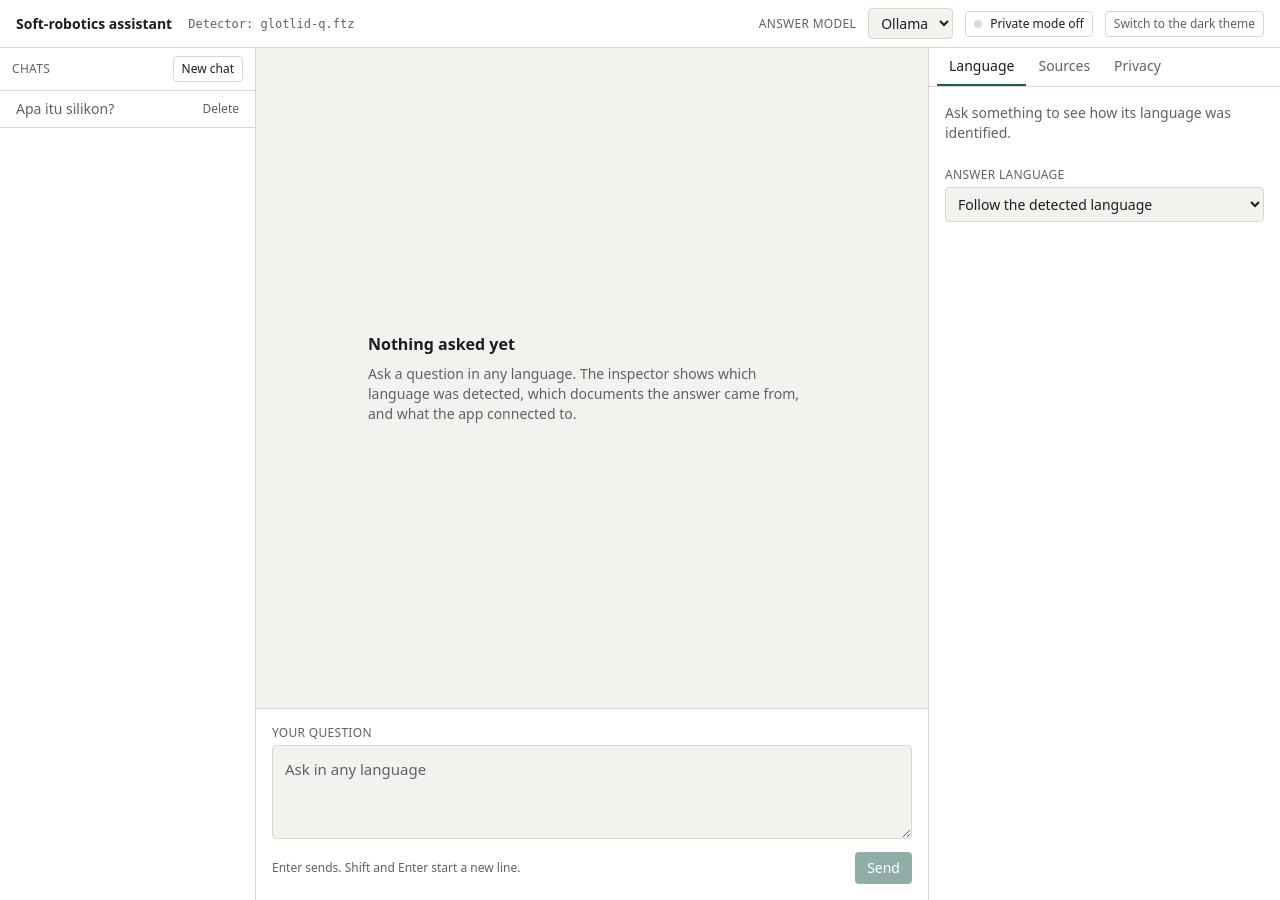
Test: App › explains an error the backend reported
The image size is (1280, 900).
Type "Apa itu silikon?" into the text box labelled "Your question".
click(592, 792); type("Apa itu silikon?")  # box [272, 745, 912, 838]
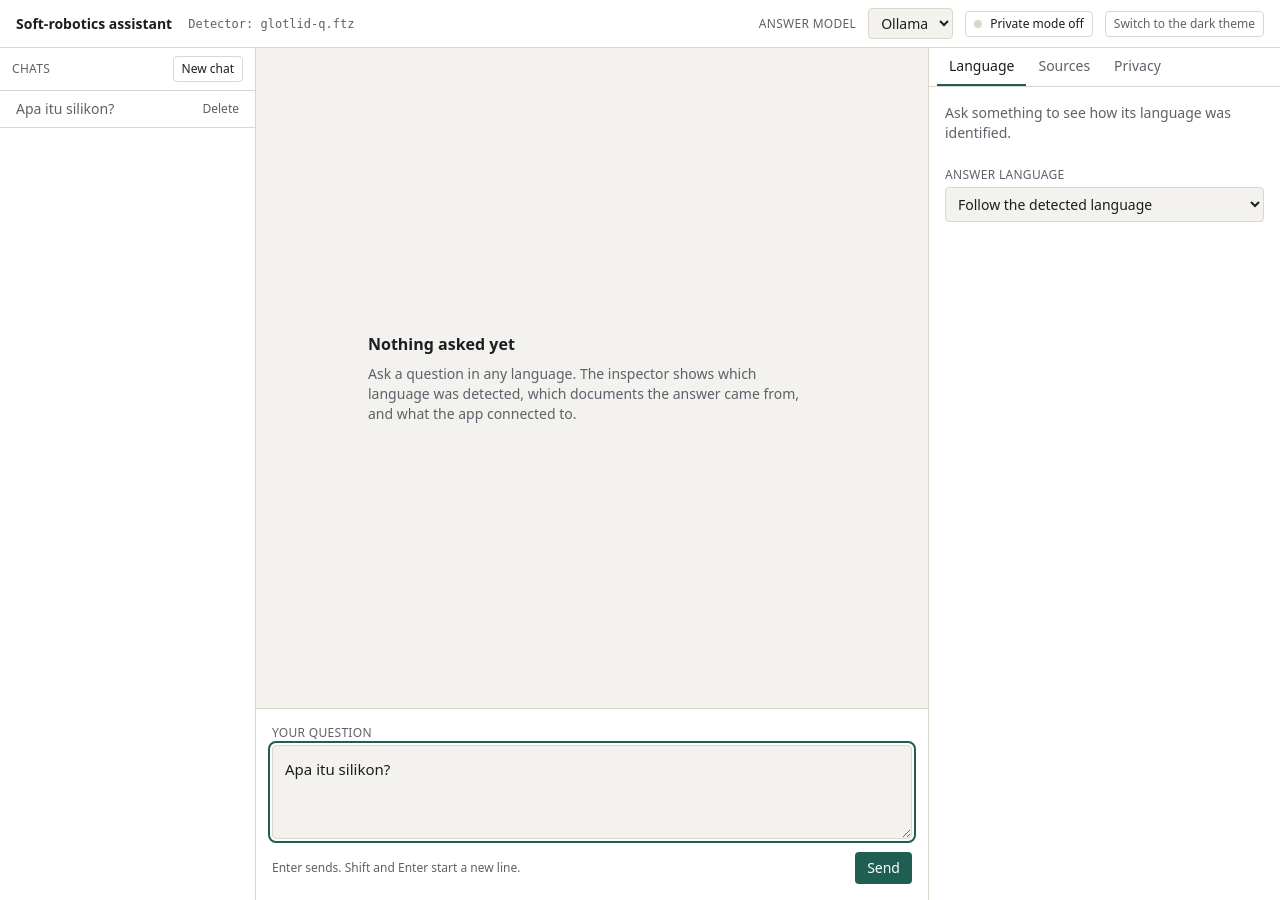
Click the button "Send".
click(884, 868)  # box [855, 852, 912, 884]
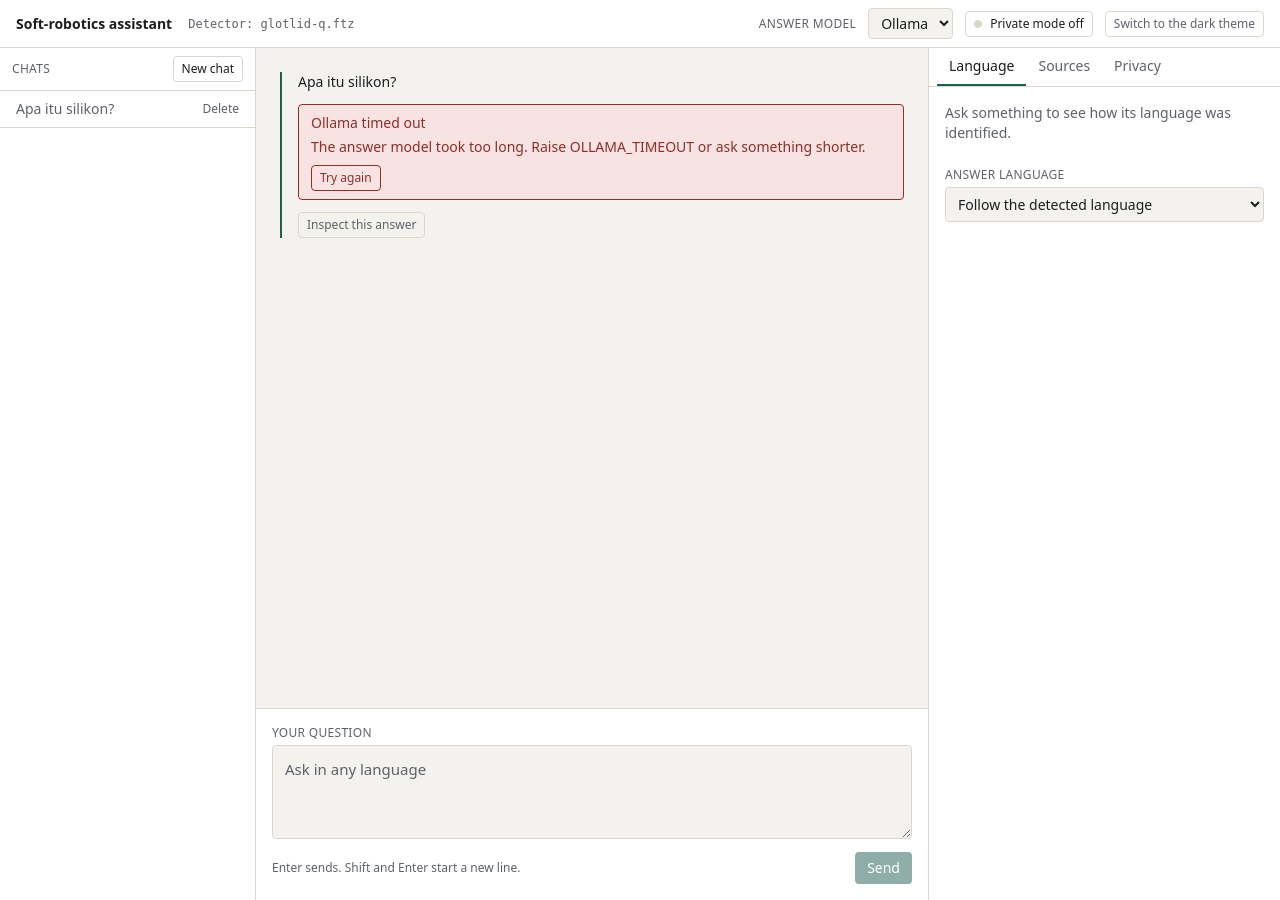
Result: the message shows "Ollama timed out" at [311, 113, 426, 132]
Result: the button "Try again" is shown at [311, 165, 381, 191]
